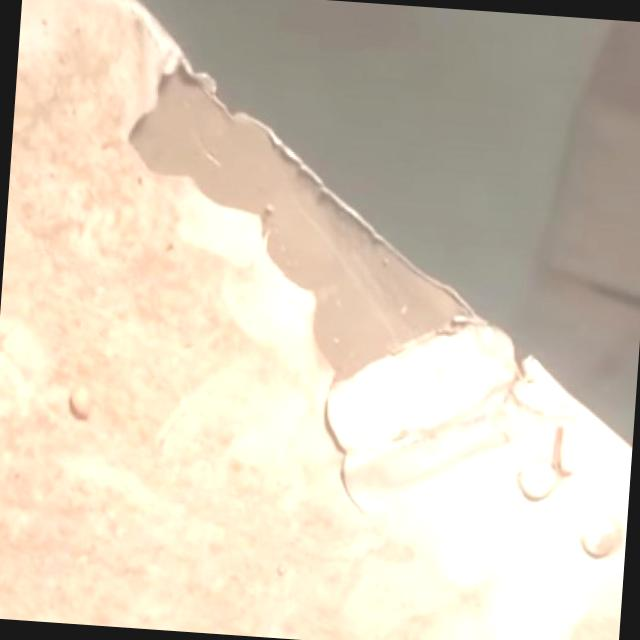crack: (290, 377, 370, 502)
